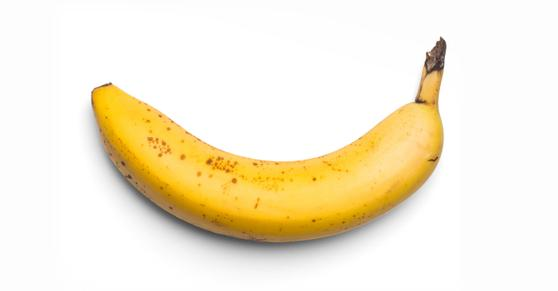banana: (77, 43, 474, 248)
